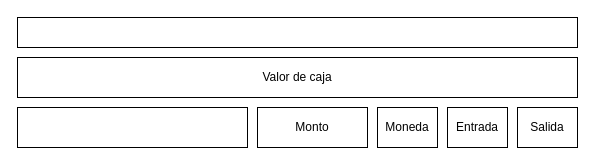
Some shapes in this 595 by 165 pixel diagram are drawn without their labels. The centre of each missing label's shape, as x and y in pixels:
"Descripción" belongs at pixel 132 127.
"Selector de caja" belongs at pixel 297 32.
